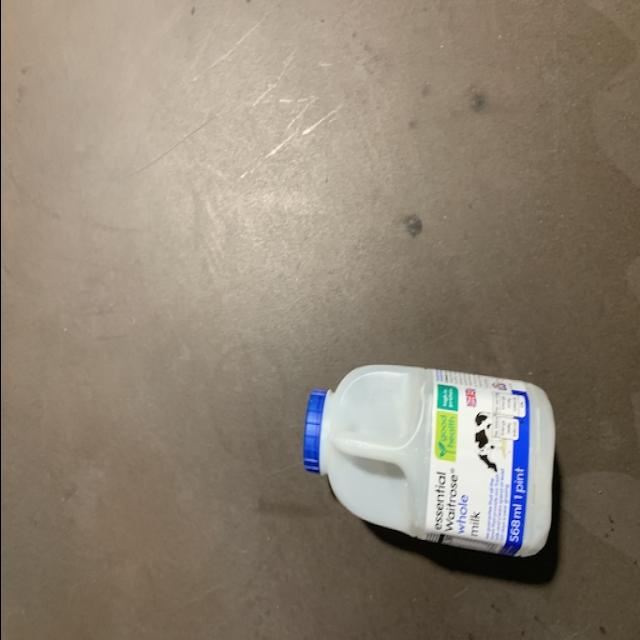litter: (297, 367, 555, 562)
